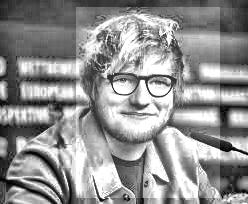happy: (77, 8, 221, 199)
